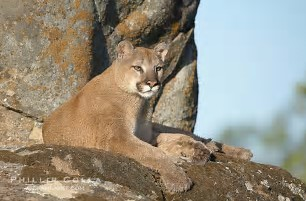Mountain Lion: (50, 44, 169, 137)
